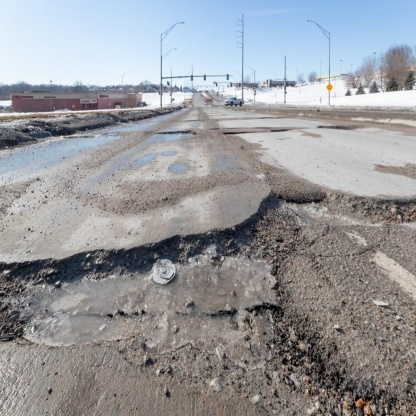pothole: (1, 184, 414, 381), (216, 119, 289, 141), (148, 122, 201, 142), (314, 117, 368, 131)
